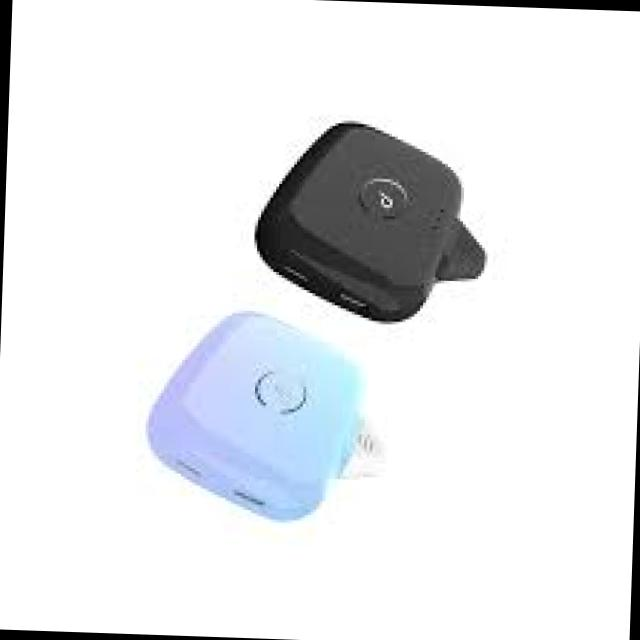power_bank: (136, 300, 396, 530), (246, 112, 495, 328)
